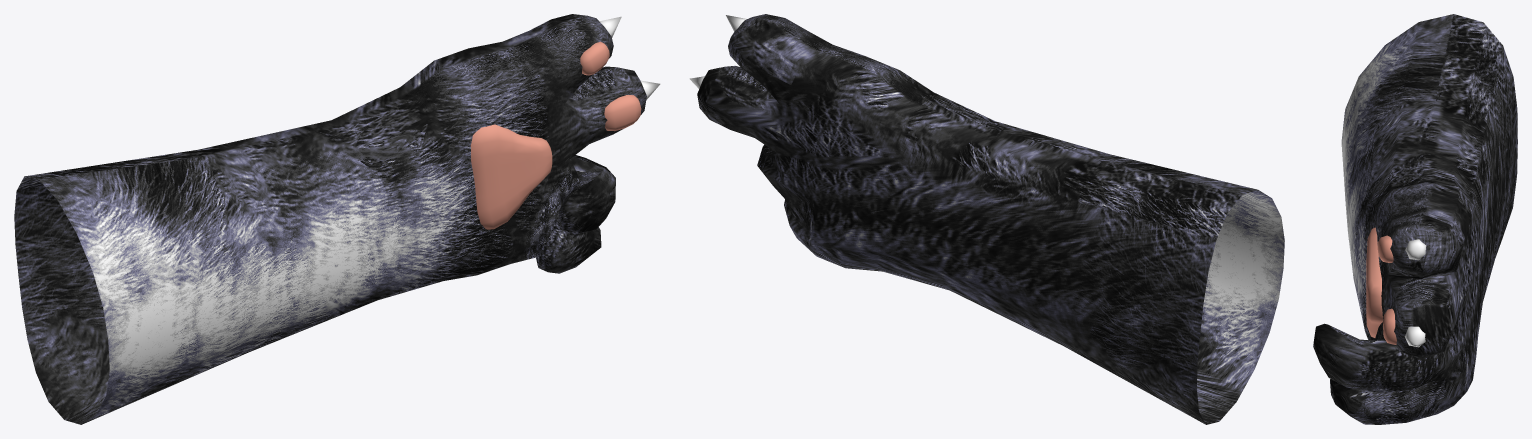
File: scissorBlack.glb
3 views of the same model, side by side, from view 1: azimuth 30°, elevation 25°; view 2: azimuth 150°, elevation 25°; view 3: azimuth 270°, elevation 25° (orthographic). The views are drawn at different scales.
Parts seen in each view (by area): view 1: Sissor_BLACK; view 2: Sissor_BLACK; view 3: Sissor_BLACK.
Boxes of the visible parts, bbox=[...] form: Sissor_BLACK: bbox=[14, 14, 660, 424]; Sissor_BLACK: bbox=[689, 14, 1284, 424]; Sissor_BLACK: bbox=[1313, 14, 1517, 424].
Size of the model in its own units: 1.04 by 0.4803 by 0.3065.
3 materials, 1 textured.
